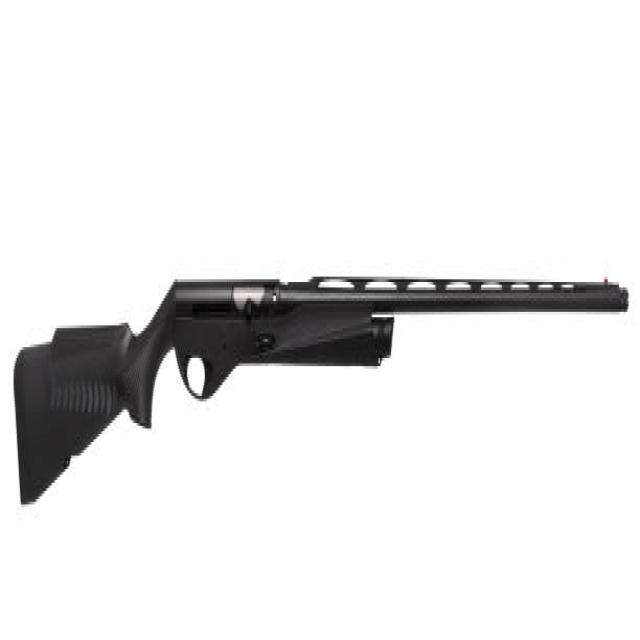rifle: (10, 271, 635, 521)
